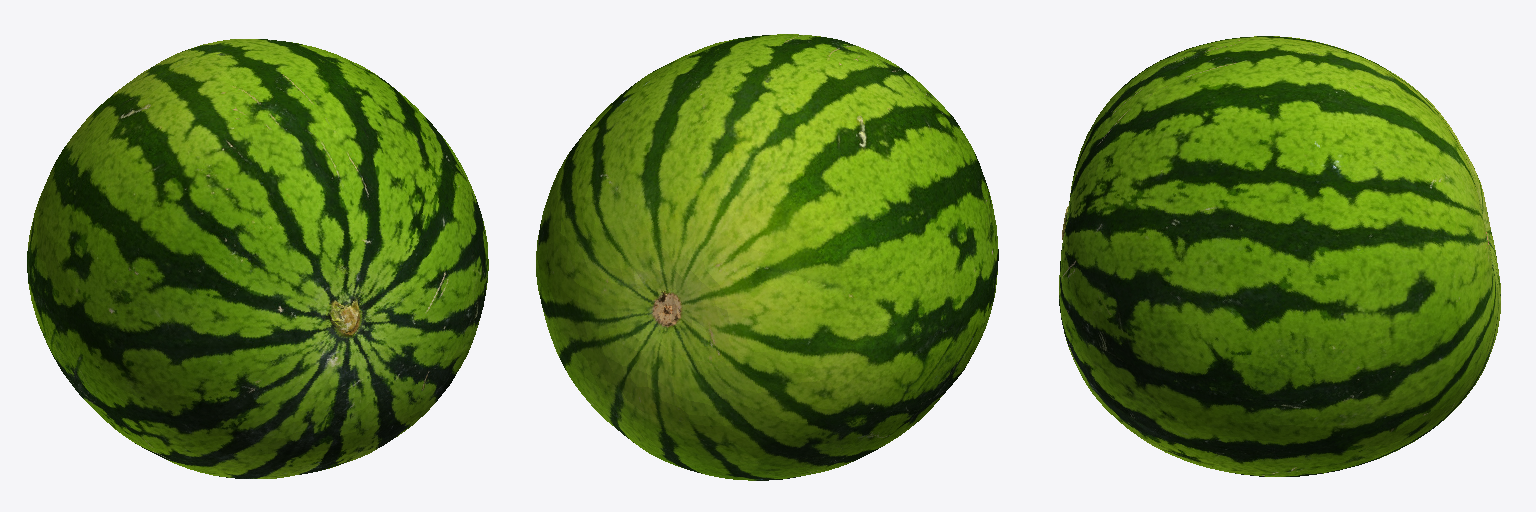
The picture shows the model from 3 angles: view 1: azimuth 30°, elevation 25°; view 2: azimuth 150°, elevation 25°; view 3: azimuth 270°, elevation 25°; orthographic projection.
Parts seen in each view (by area): view 1: SQ; view 2: SQ; view 3: SQ.
Part boxes in pixels (x1,y1,x2,y2): SQ: (27,39,488,478); SQ: (536,34,998,480); SQ: (1059,36,1500,476).
Size of the model in its own units: 0.2464 by 0.2384 by 0.241.
1 materials, 1 textured.